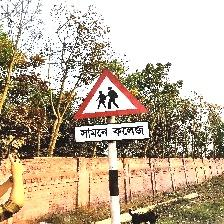College-in-front: (52, 62, 147, 139)
